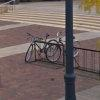Bicycle: (19, 23, 79, 68)
